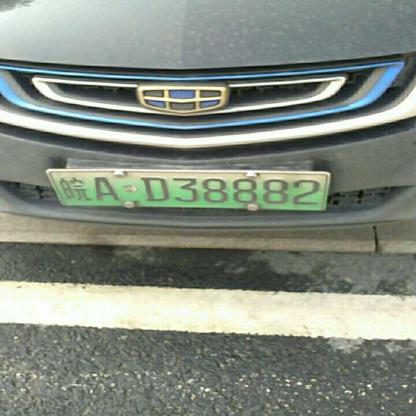lp: (49, 172, 63, 209)
